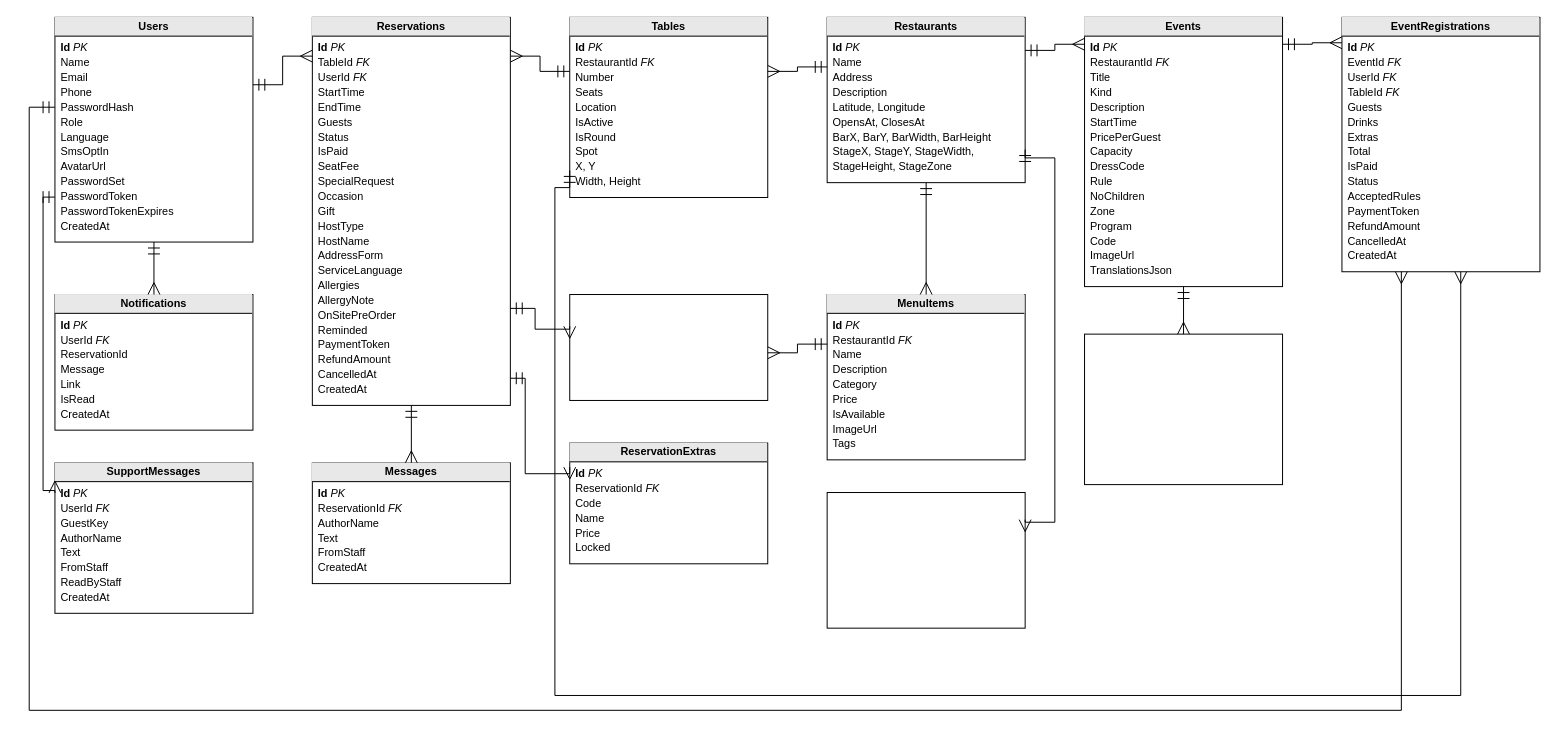
Some shapes in this 1557 by 741 pixel diagram are drawn without their labels. Each missing label, with the centre of its shape:
DayNotes Id PK RestaurantId FK Date Text Color AuthorName CreatedAt: pixel 925 560
EventMenuItems Id PK EventId FK MenuItemId Code Name Description Price ImageUrl: pixel 1183 409
PreOrderItems Id PK ReservationId FK MenuItemId FK Quantity UnitPrice: pixel 668 347
